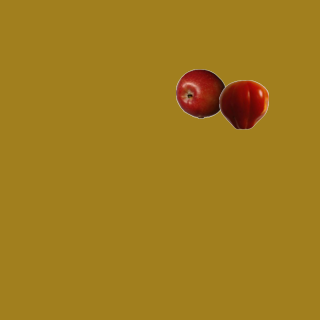Apple Braeburn: (175, 68, 225, 118)
Tomato 1: (218, 79, 268, 129)
